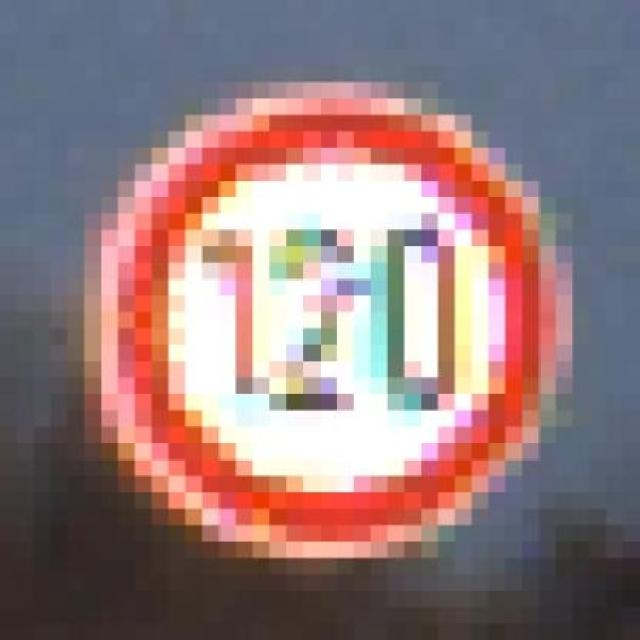forb_speed_over_120: (103, 112, 563, 549)
